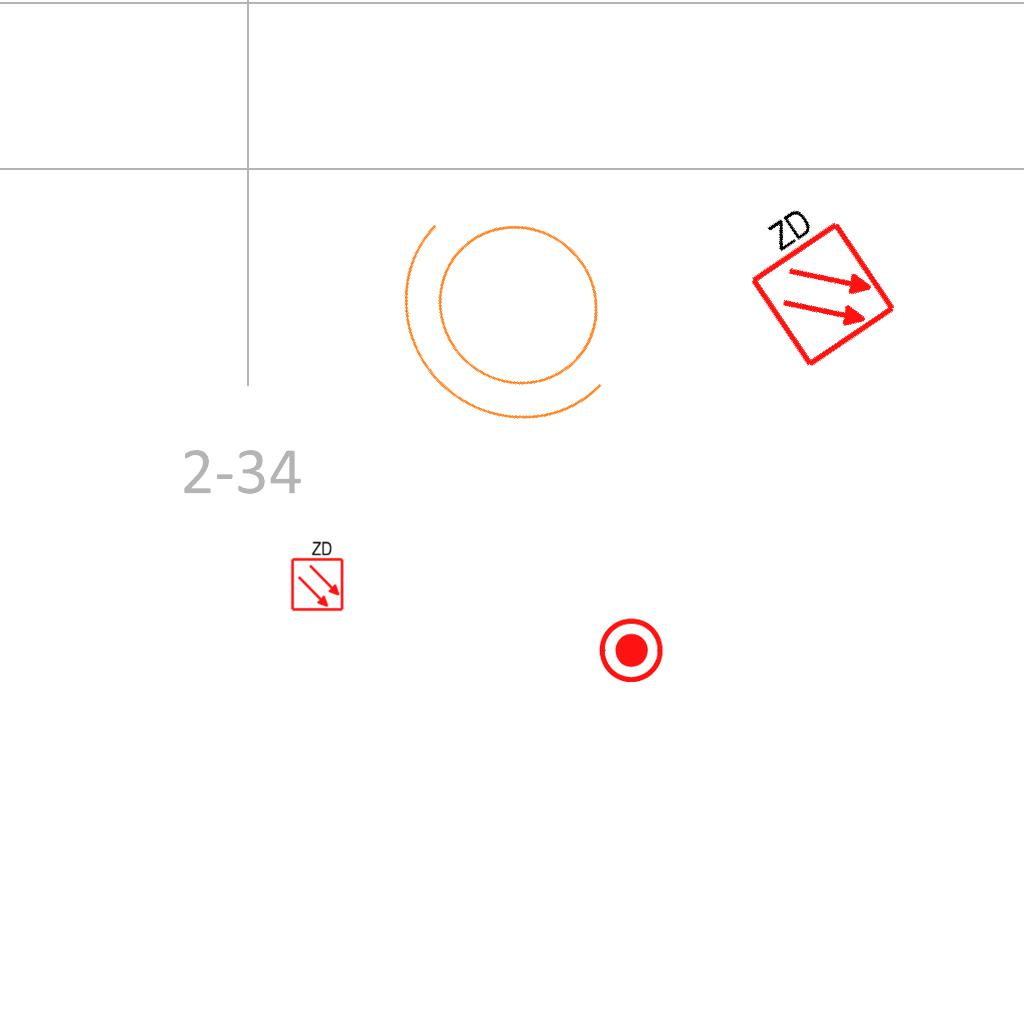Scheinwerfer_fuer_Alarmbeleuchtung: (342, 143, 690, 490)
Taster: (599, 616, 665, 682)
ZD_Melder_in_Zwischendecke_mit_Revisionsoeffnung_mind_40_x_40_cm: (722, 185, 900, 374), (288, 538, 345, 612)
